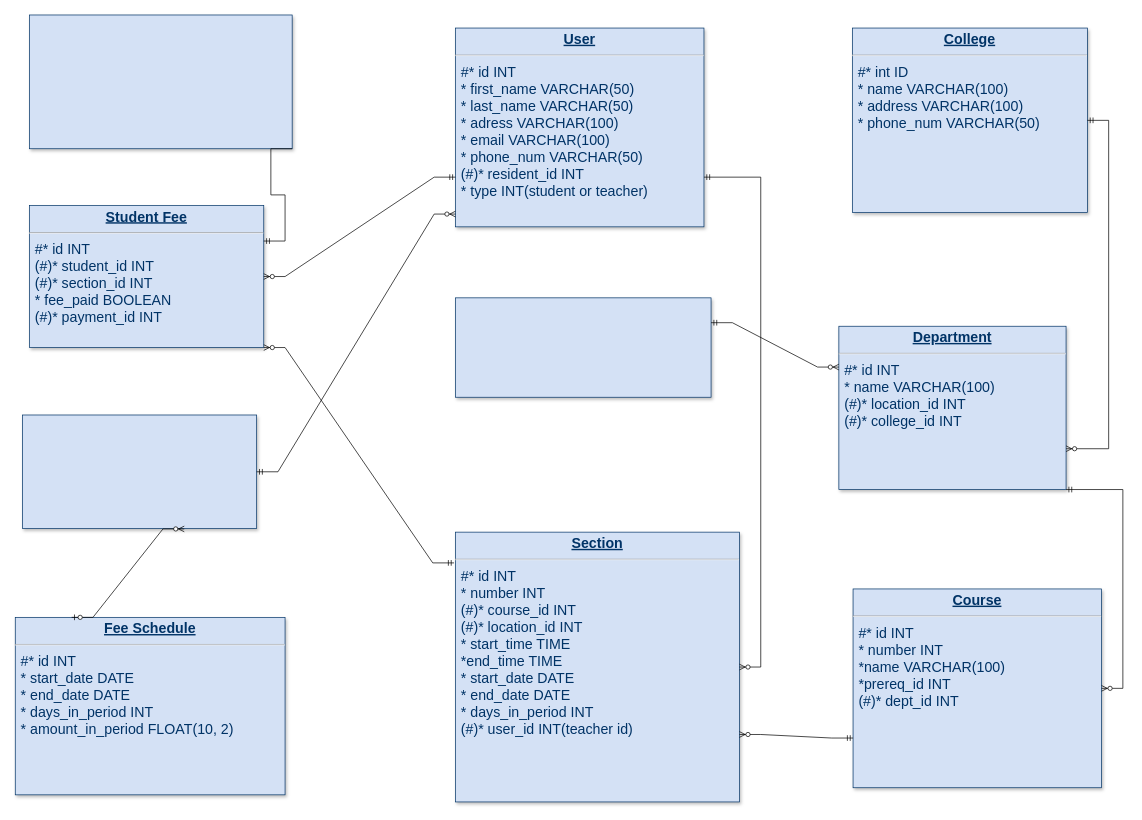
Image size: 1142x820. Some labels were removed from this diagram. Here are the shapes that lost their labels. From the top down, the centre of each, then its label:
At (x=161, y=82): "Payment #* id INT # name VARCHAR(100) o type VARCHAR(25)(visa, cash,etc)".
At (x=583, y=348): "Location #* id INT * name VARCHAR(100)".
At (x=140, y=472): "Resident #* id INT * name VARCHAR(100) (#)* fee_schedule_id INT".
